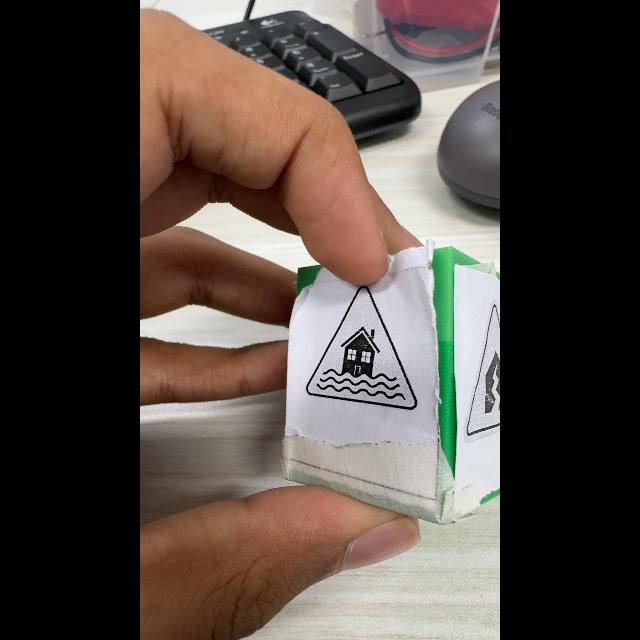Tsunami: (306, 287, 417, 410)
